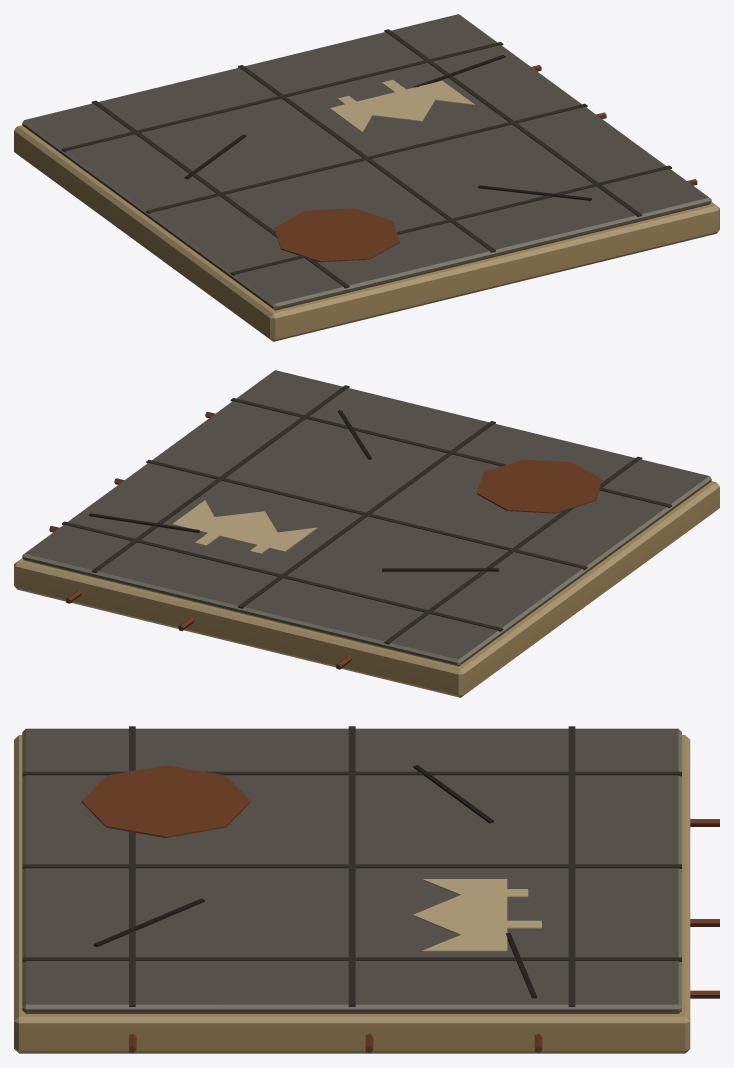
The model's file is b_floor.glb.
The picture shows the model from 3 angles, top to bottom: view 1: azimuth 30°, elevation 25°; view 2: azimuth 150°, elevation 25°; view 3: azimuth 270°, elevation 25°; orthographic projection. The views are drawn at different scales.
Visible parts, largest first — view 1: b_floor; view 2: b_floor; view 3: b_floor.
Boxes of the visible parts, box(x1,y1,x2,y2) form: b_floor: box(14, 14, 719, 341); b_floor: box(14, 370, 719, 697); b_floor: box(14, 726, 719, 1053).
Size of the model in its own units: 4.17 by 0.313 by 4.17.
